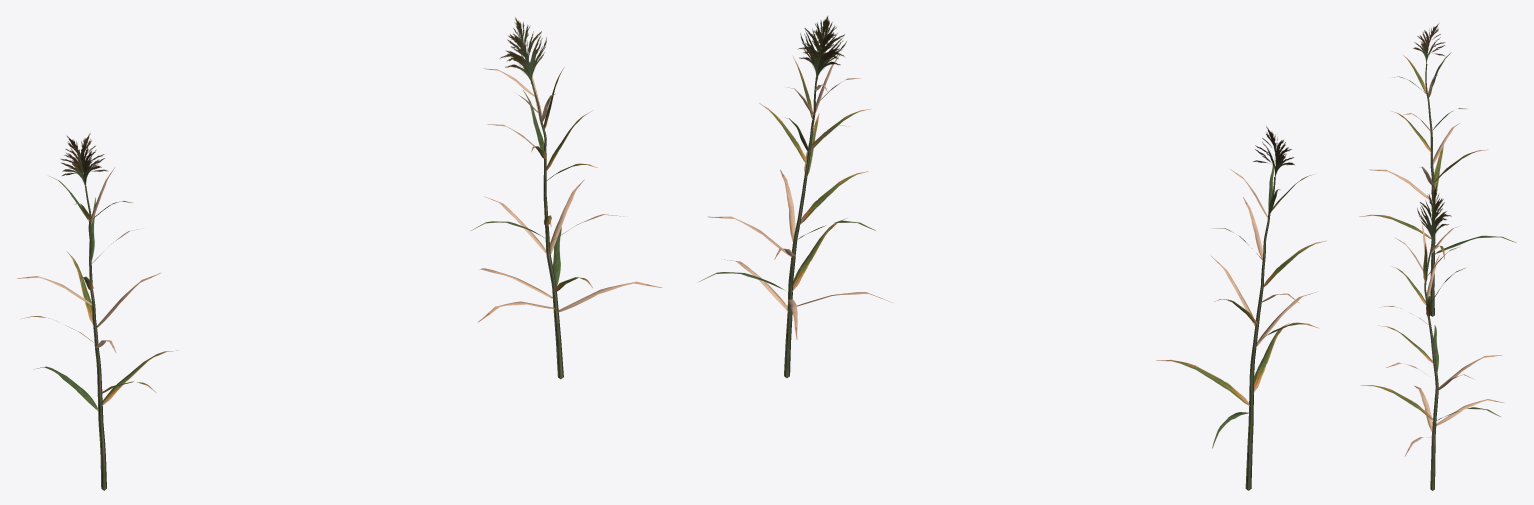
Rendered from reed_b.glb.
The picture shows the model from 3 angles, left to right: view 1: azimuth 30°, elevation 25°; view 2: azimuth 150°, elevation 25°; view 3: azimuth 270°, elevation 25°; orthographic projection. The views are drawn at different scales.
Parts seen in each view (by area): view 1: Reed_4_w; view 2: Reed_4_w; view 3: Reed_4_w.
Boxes of the visible parts, bbox=[...] form: Reed_4_w: bbox=[17, 17, 662, 490]; Reed_4_w: bbox=[698, 16, 1326, 490]; Reed_4_w: bbox=[1359, 23, 1516, 490].
Size of the model in its own units: 2.1 by 1.2 by 0.6074.
Materials: 2 (2 with a texture image).
